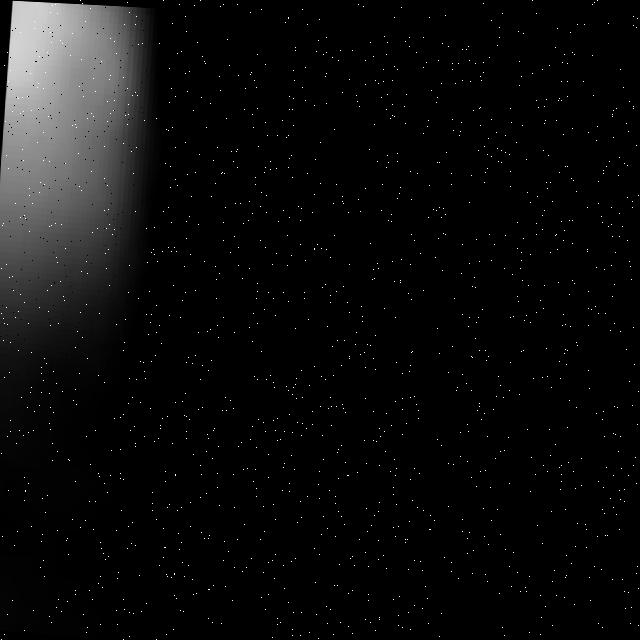person: (1, 1, 141, 415)
